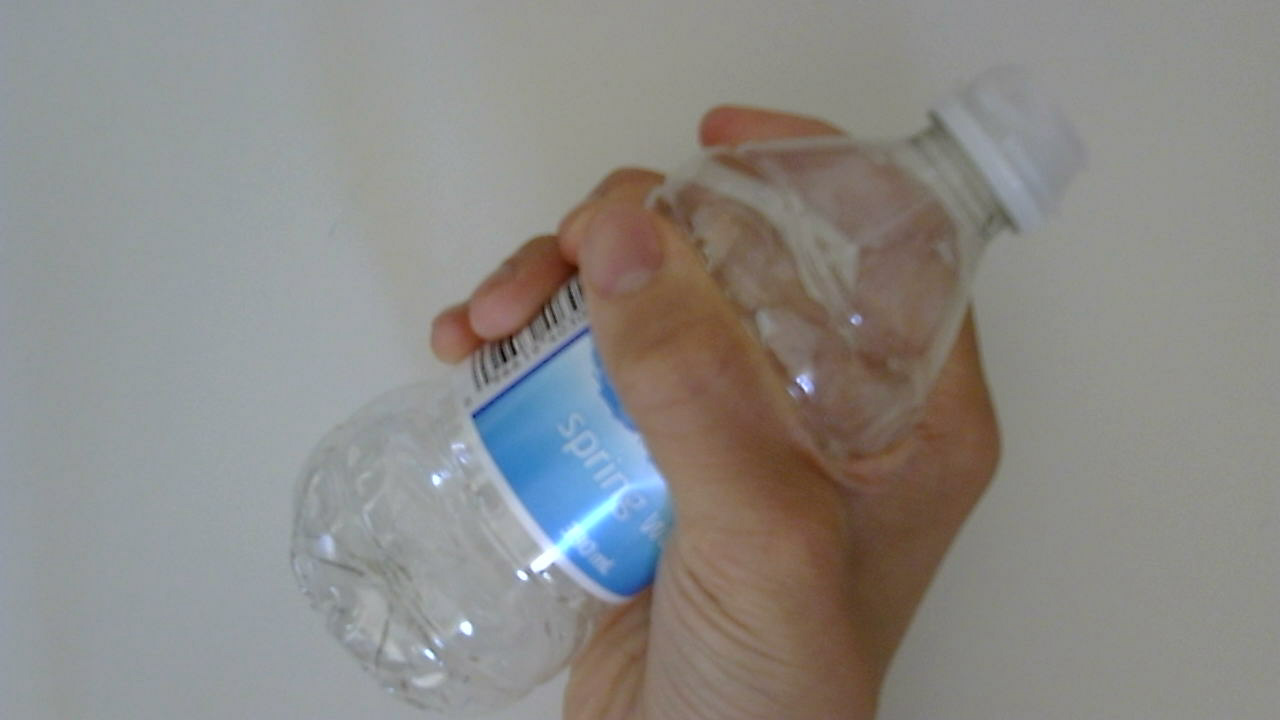Plastic Bottle: (285, 62, 1100, 720)
